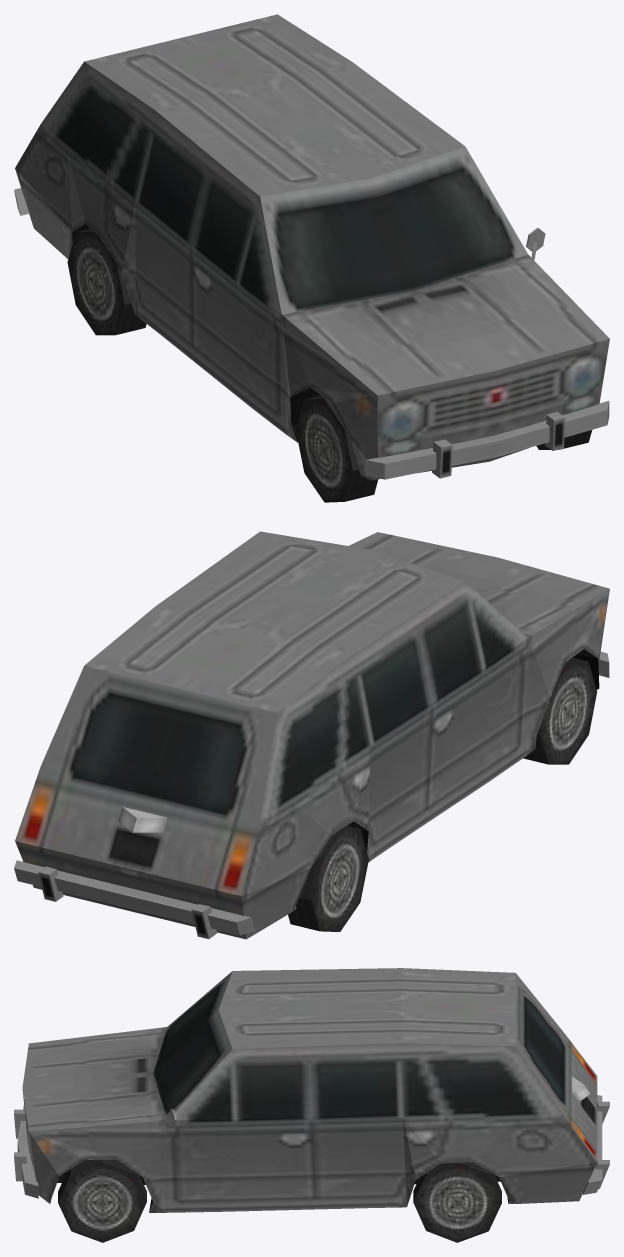
The model's file is car1_gray.glb.
3 renders of one model, top to bottom at view 1: azimuth 30°, elevation 25°; view 2: azimuth 150°, elevation 25°; view 3: azimuth 270°, elevation 25°, orthographic. The views are drawn at different scales.
Visible parts, largest first — view 1: Car; view 2: Car; view 3: Car.
Part boxes in pixels (x1=…): Car: x1=14, y1=14, x2=609, y2=502; Car: x1=14, y1=531, x2=609, y2=939; Car: x1=14, y1=968, x2=609, y2=1242.
Size of the model in its own units: 2.56 by 2.17 by 6.15.
1 material, 1 textured.
